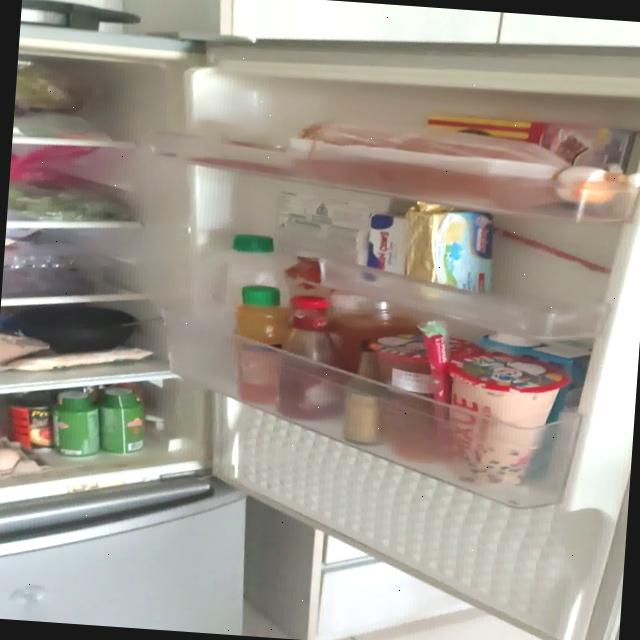egg: (0, 435, 52, 482)
tempeh: (5, 338, 150, 378)
